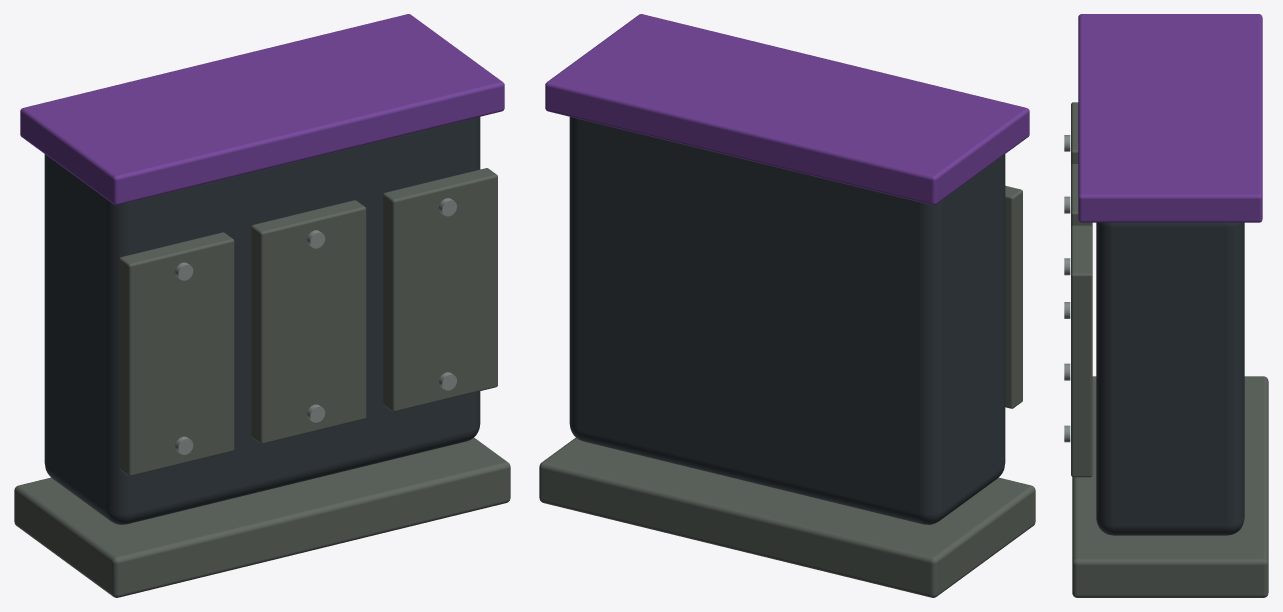
File: wall_l03.glb
3 views of the same model, side by side, from view 1: azimuth 30°, elevation 25°; view 2: azimuth 150°, elevation 25°; view 3: azimuth 270°, elevation 25° (orthographic). The views are drawn at different scales.
Visible parts, largest first — view 1: separate_face_plate (×3), armoured_barrier, tier_cap, continuous_footing; view 2: armoured_barrier, tier_cap, continuous_footing, separate_face_plate; view 3: armoured_barrier, tier_cap, continuous_footing, separate_face_plate (×3).
Part boxes in pixels (bbox=[...]): separate_face_plate (×3): bbox=[119, 168, 497, 476]; armoured_barrier: bbox=[44, 117, 480, 524]; tier_cap: bbox=[20, 14, 504, 205]; continuous_footing: bbox=[14, 437, 510, 597]; armoured_barrier: bbox=[569, 117, 1005, 524]; tier_cap: bbox=[545, 14, 1029, 205]; continuous_footing: bbox=[539, 437, 1035, 597]; separate_face_plate: bbox=[1005, 185, 1022, 408]; armoured_barrier: bbox=[1096, 222, 1244, 535]; tier_cap: bbox=[1078, 14, 1262, 222]; continuous_footing: bbox=[1072, 376, 1268, 597]; separate_face_plate (×3): bbox=[1071, 102, 1092, 477].
Bounding box in the file's own units: 1.84 × 1.86 × 0.8525.
